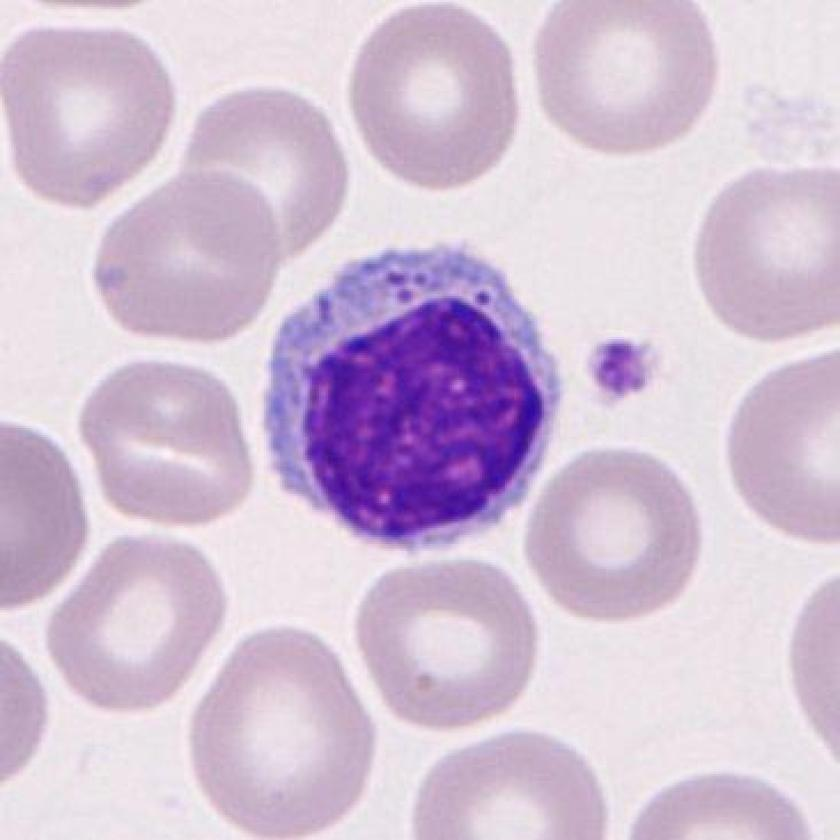lymphocyte: (245, 229, 580, 566)
